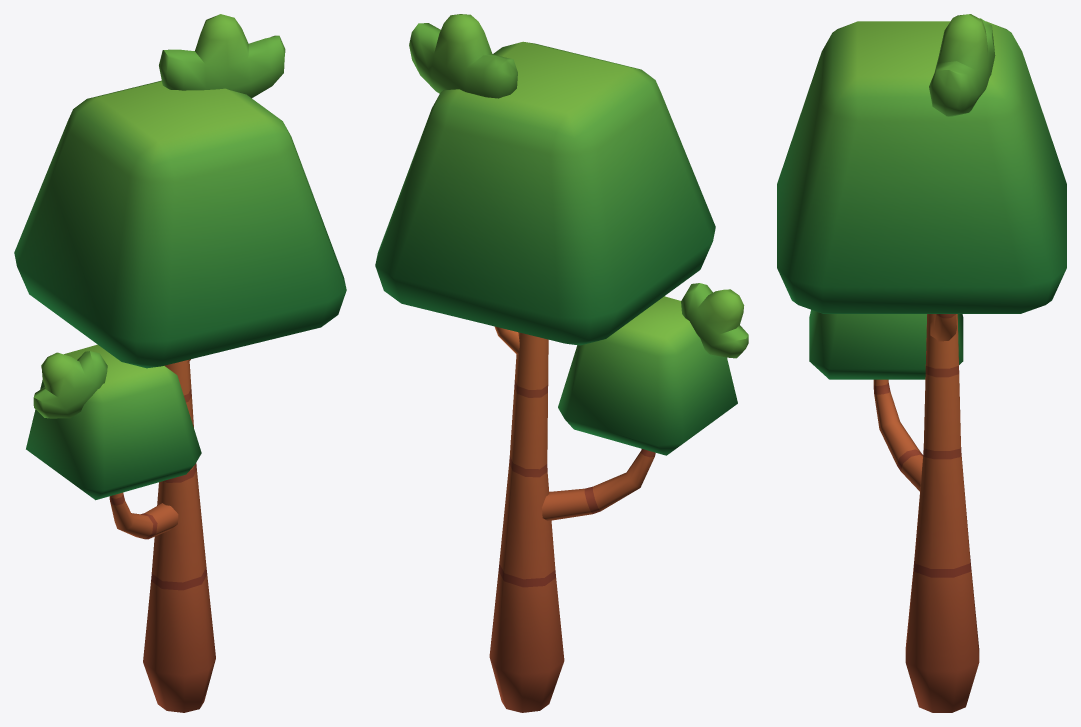
File: Tree_6_A_Color1.gltf
3 views of the same model, side by side, from view 1: azimuth 30°, elevation 25°; view 2: azimuth 150°, elevation 25°; view 3: azimuth 270°, elevation 25° (orthographic). The views are drawn at different scales.
Parts seen in each view (by area): view 1: Tree_6_A_Color1; view 2: Tree_6_A_Color1; view 3: Tree_6_A_Color1.
Part boxes in pixels (box(x1,y1,x2,y2)): Tree_6_A_Color1: box(14, 14, 346, 712); Tree_6_A_Color1: box(375, 14, 748, 712); Tree_6_A_Color1: box(777, 14, 1066, 712).
Bounding box in the file's own units: 2.09 × 4.67 × 1.7.
Materials: 1 (1 with a texture image).
